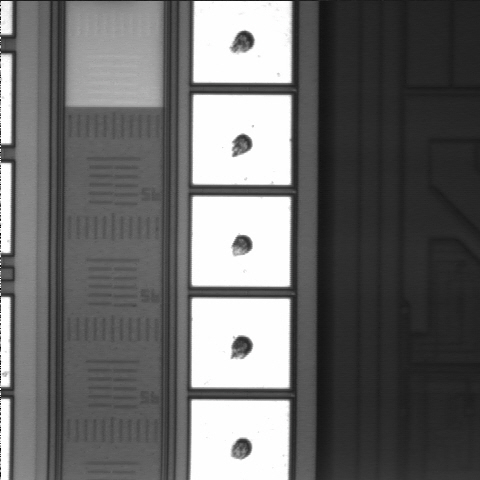pad: (193, 95, 291, 185), (192, 197, 290, 287), (192, 298, 290, 388)
